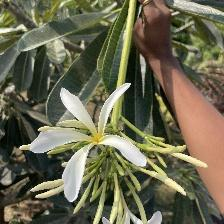champaka: (29, 82, 153, 208)
